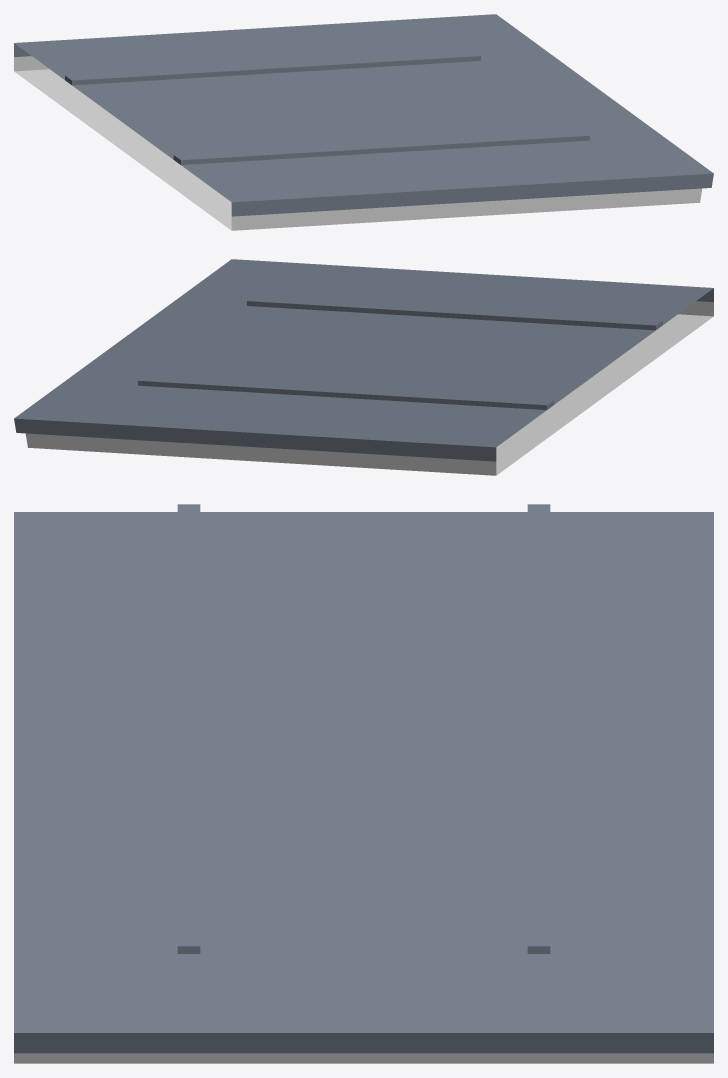
The model's file is SM_roof_02.glb.
The picture shows the model from 3 angles, top to bottom: view 1: azimuth 30°, elevation 25°; view 2: azimuth 150°, elevation 25°; view 3: azimuth 270°, elevation 25°; orthographic projection. The views are drawn at different scales.
Visible parts, largest first — view 1: SM_roof_02; view 2: SM_roof_02; view 3: SM_roof_02.
Boxes of the visible parts, x1,y1,x2,y2 form: SM_roof_02: [14, 14, 713, 230]; SM_roof_02: [14, 259, 713, 475]; SM_roof_02: [14, 504, 713, 1063].
Size of the model in its own units: 5.11 by 1.21 by 4.
Materials: 1 (1 with a texture image).
